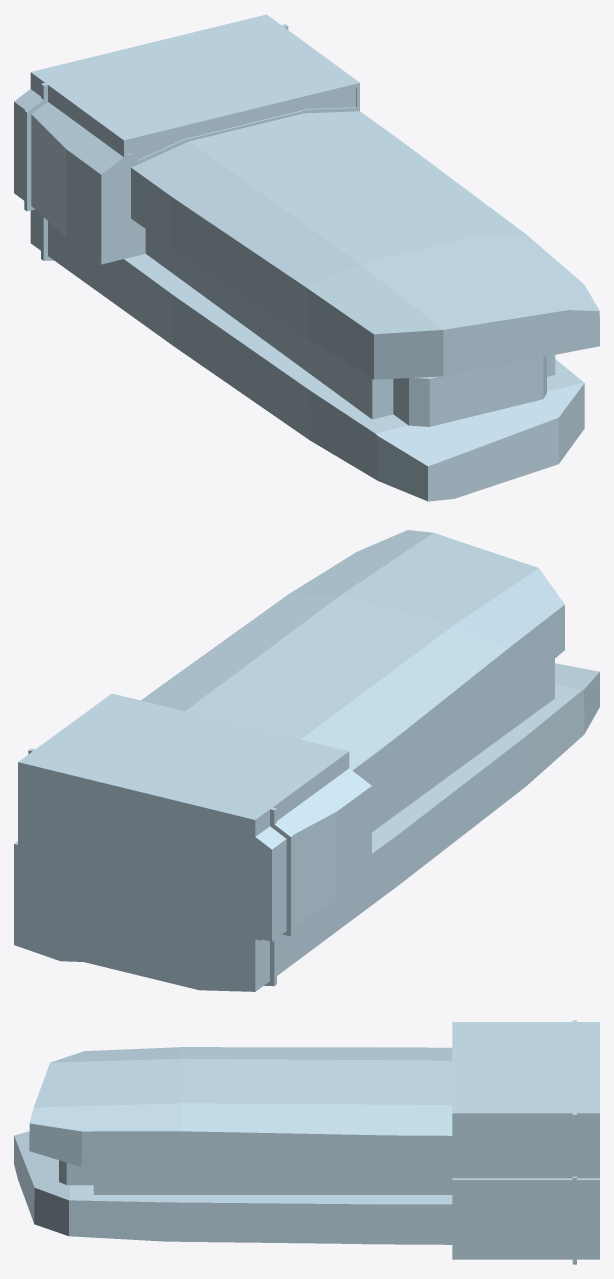
The model's file is building.glb.
3 renders of one model, top to bottom at view 1: azimuth 30°, elevation 25°; view 2: azimuth 150°, elevation 25°; view 3: azimuth 270°, elevation 25°, orthographic. The views are drawn at different scales.
Visible parts, largest first — view 1: Part 1; view 2: Part 1; view 3: Part 1.
Part boxes in pixels (x1,y1,x2,y2): Part 1: (14,14,599,501); Part 1: (14,530,599,991); Part 1: (14,1020,599,1264).
Size of the model in its own units: 0.0474 by 0.0326 by 0.1138.
